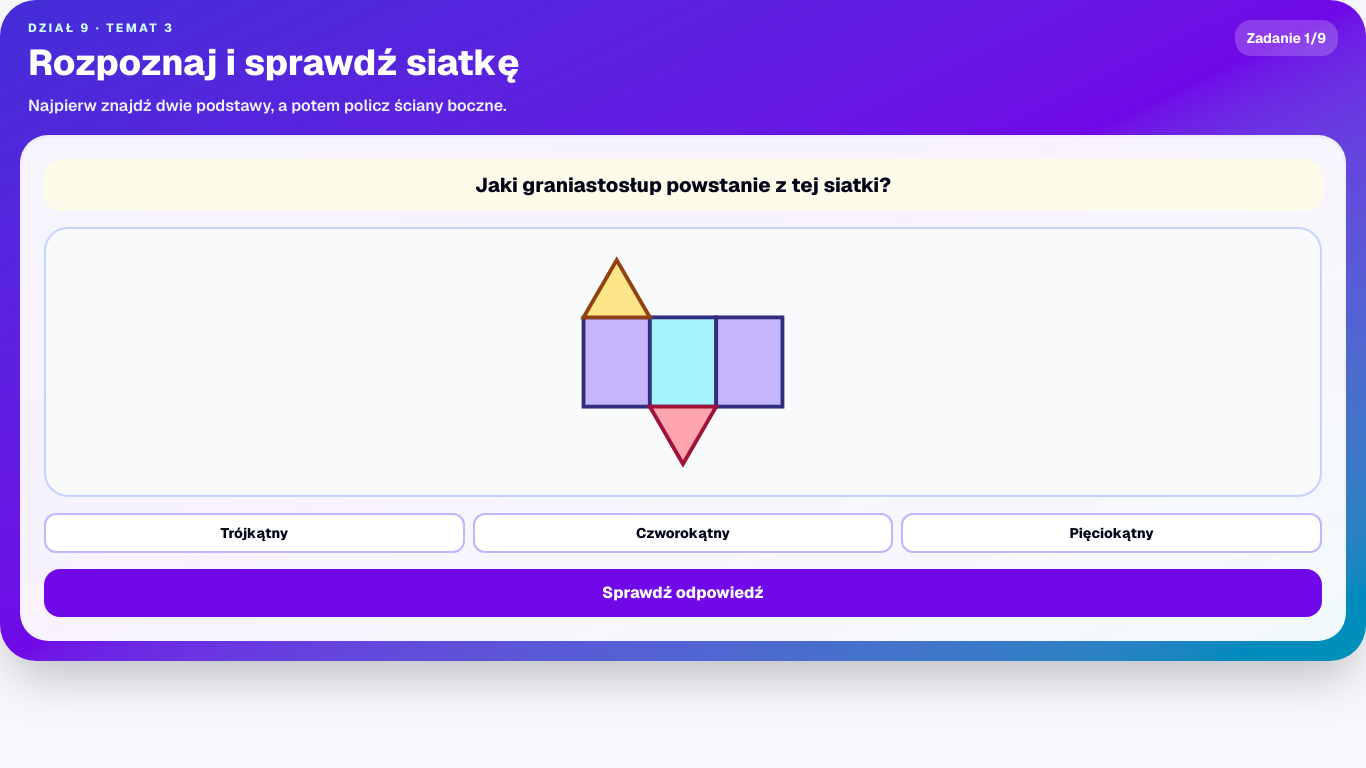
Test: PrismNetsLessonLab › prowadzi jedną serię dziewięciu różnych zadań o rozpoznawaniu i poprawności siatki
Expected: the text "Zadanie 1/9" is shown, [1235, 20, 1338, 56]
Expected: the picture named "3 ścian bocznych; dwie jednakowe podstawy" is shown, [54, 237, 1312, 487]
Click the button "Sprawdź odpowiedź" at coordinates (683, 593), box [44, 569, 1322, 617]
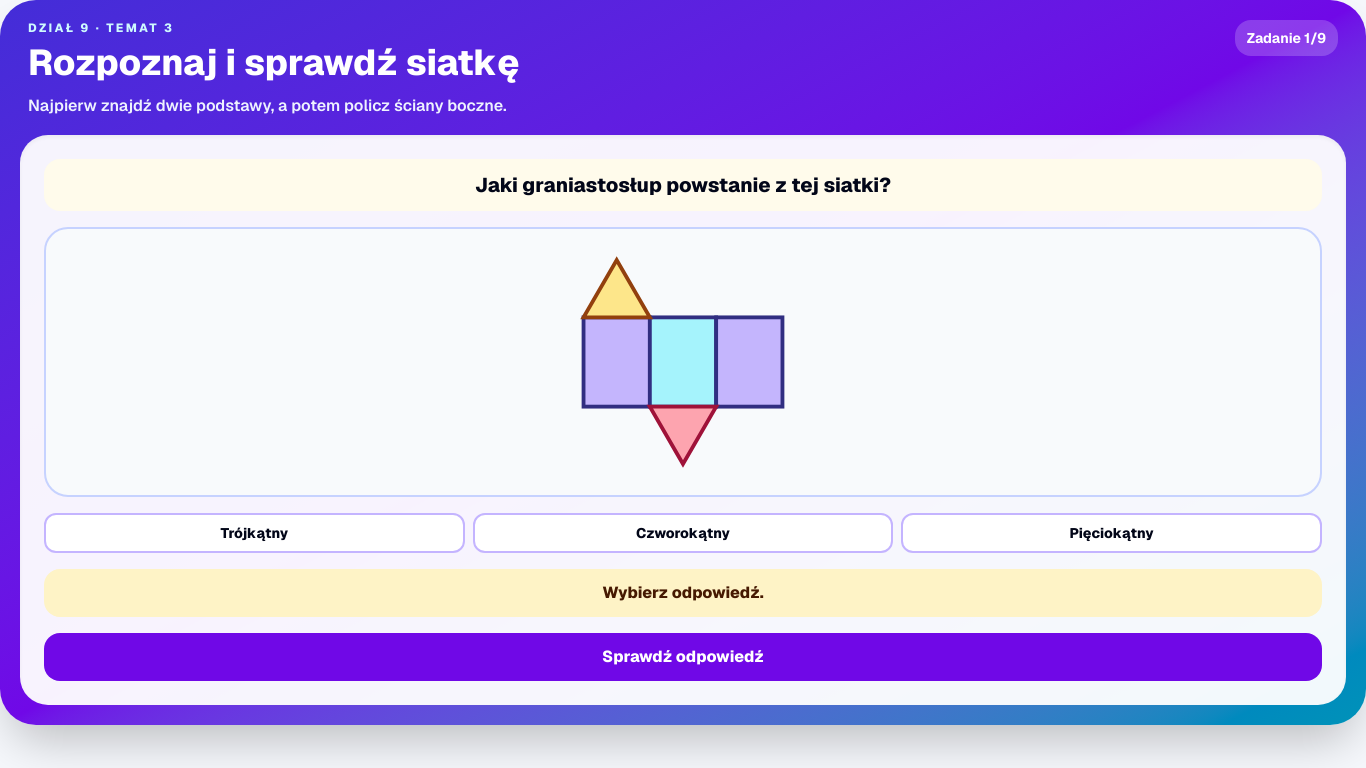
Expected: the text "Wybierz odpowiedź." is shown, [44, 569, 1322, 617]
